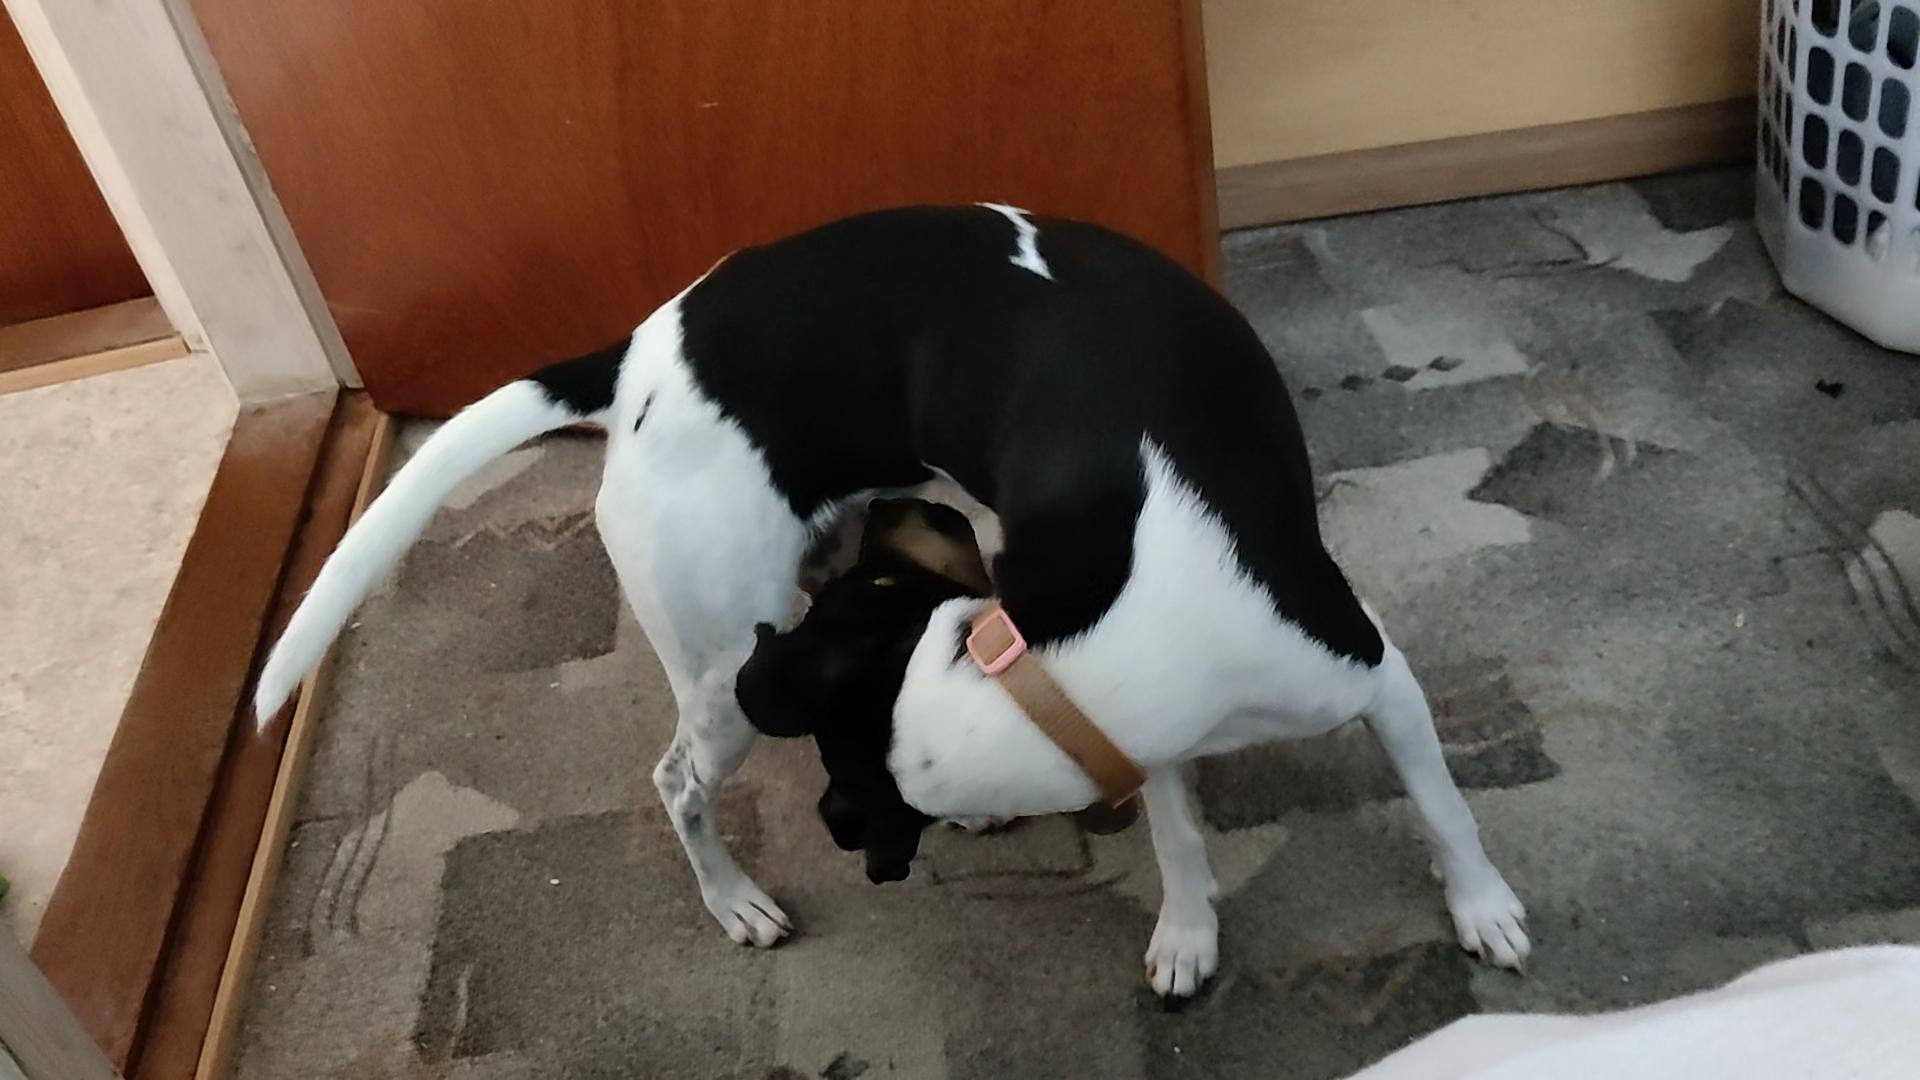Dog: (248, 183, 1548, 1025)
